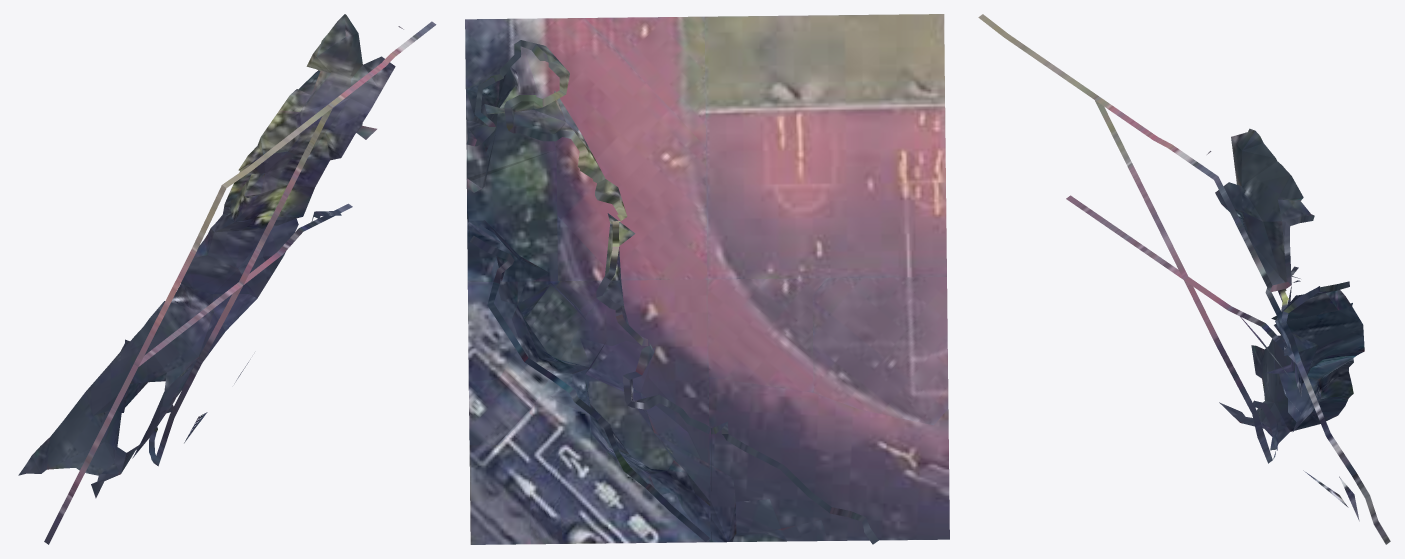
The picture shows the model from 3 angles, left to right: view 1: azimuth 30°, elevation 25°; view 2: azimuth 150°, elevation 25°; view 3: azimuth 270°, elevation 25°; orthographic projection. The views are drawn at different scales.
Bounding box in the file's own units: 38.11 × 36.03 × 31.71.
Materials: 1 (1 with a texture image).
